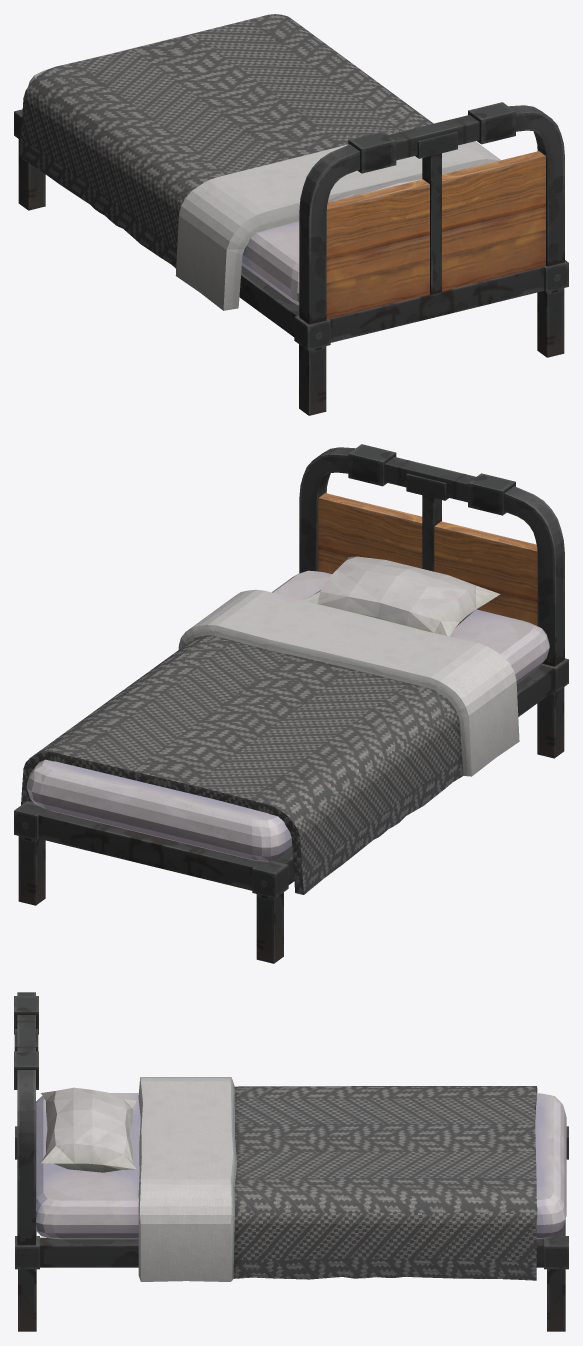
Rendered from P_SingleBed_002_S1_M01.obj.
3 views of the same model, one above another, from view 1: azimuth 30°, elevation 25°; view 2: azimuth 150°, elevation 25°; view 3: azimuth 270°, elevation 25° (orthographic). The views are drawn at different scales.
Bounding box in the file's own units: 1.74 × 1.44 × 3.
1 material, 1 textured.
